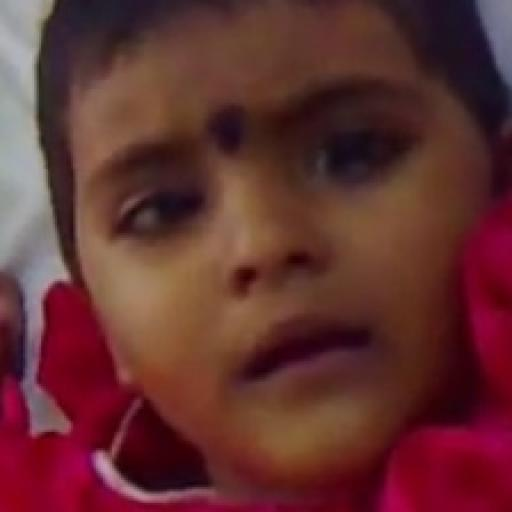Autism: (64, 42, 512, 496)
